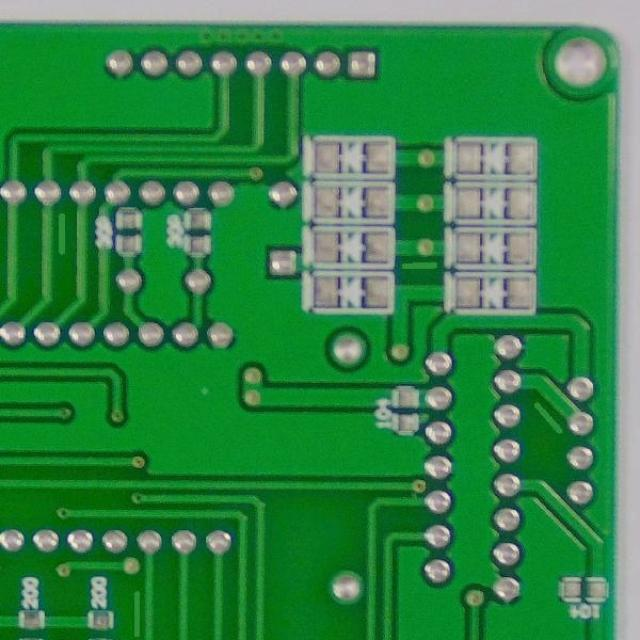Spurious_Cooper: (529, 396, 568, 444), (129, 586, 144, 640), (56, 207, 70, 260), (398, 258, 441, 273)
